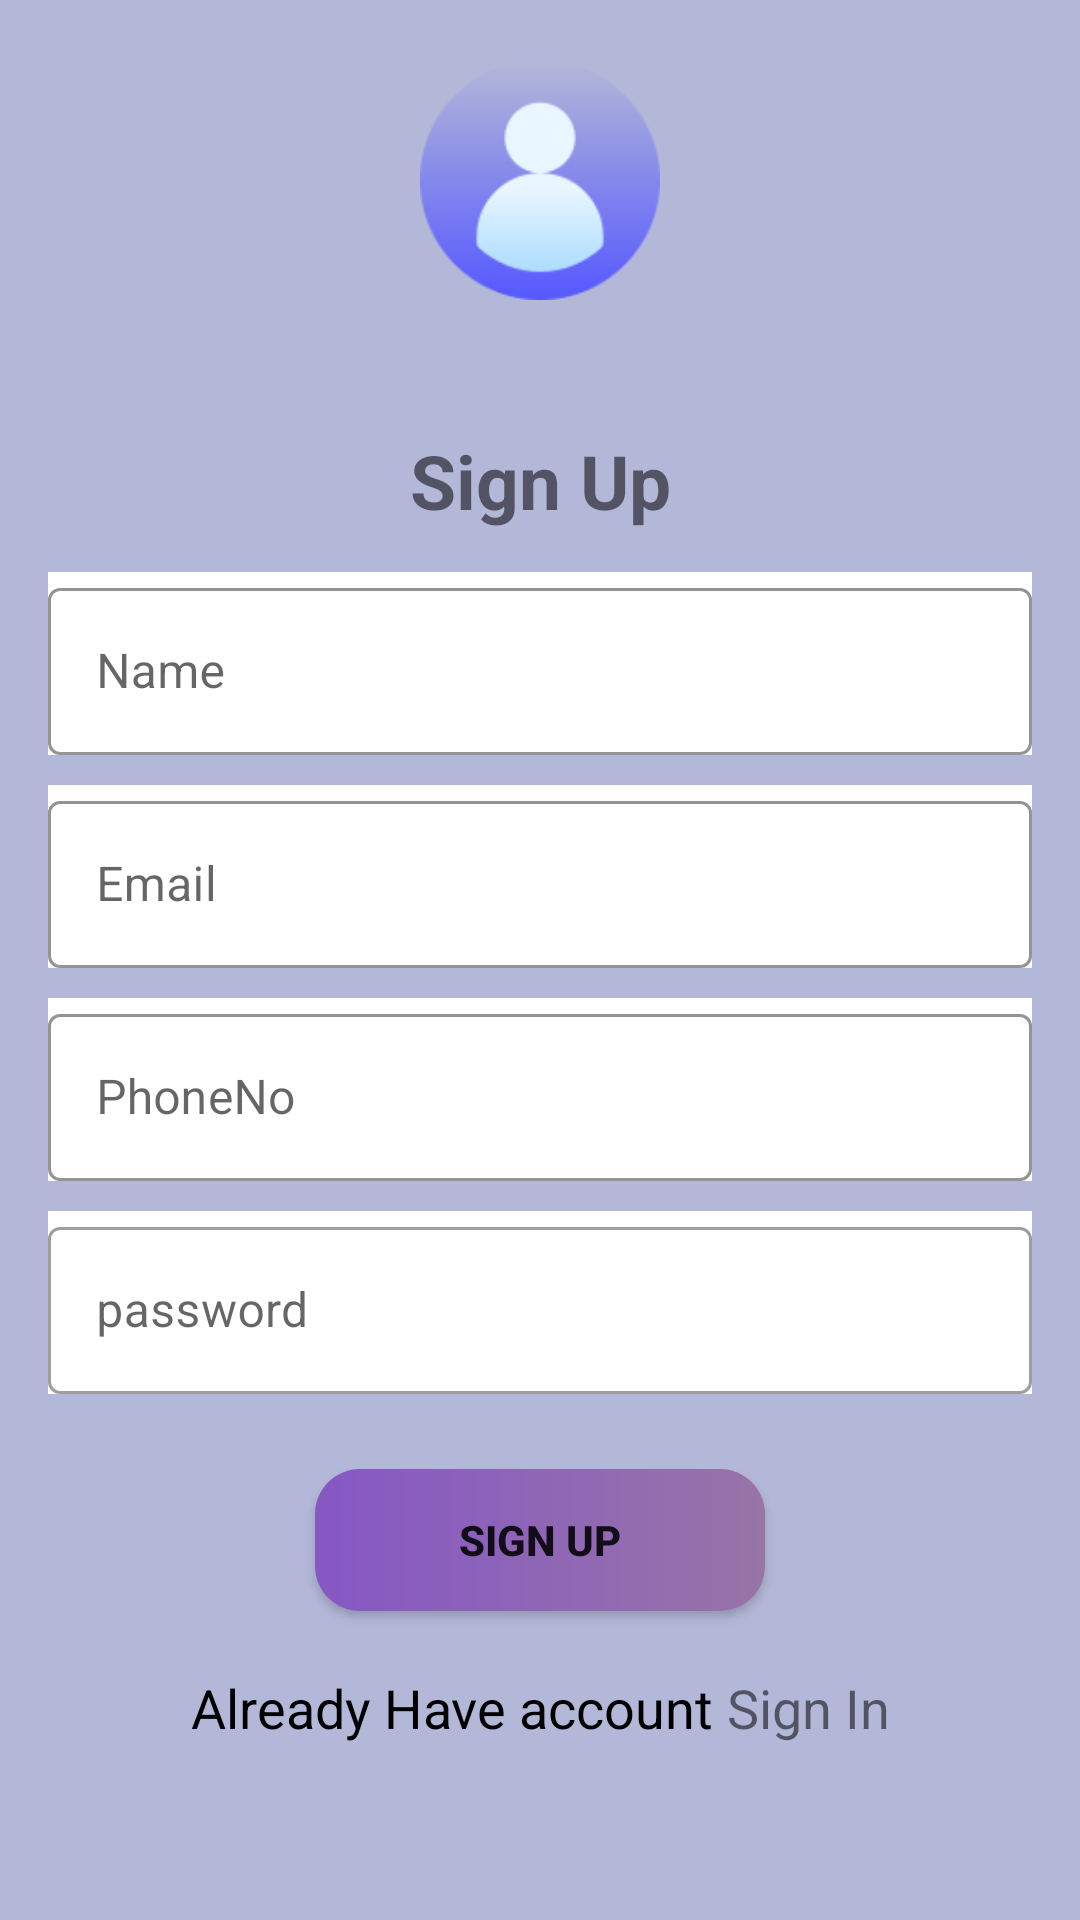

Screen size 1080 x 1920. Icon name, then its box in pixels as rect(x1, y1, x2, y2):
profile: rect(420, 103, 660, 300)
